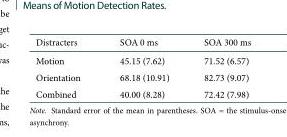table: (35, 35, 250, 100)
table column: (99, 35, 185, 100), (185, 35, 250, 100), (35, 35, 99, 100)
table column header: (35, 35, 250, 50)
table row: (35, 50, 250, 68), (35, 68, 250, 85), (35, 35, 250, 50), (35, 85, 250, 100)
